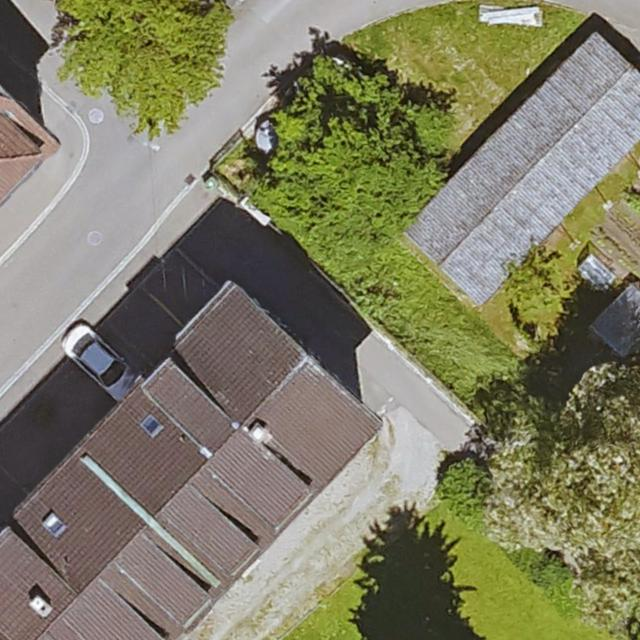tree: (490, 367, 640, 629), (263, 59, 434, 246), (58, 0, 229, 131), (438, 460, 491, 518)
